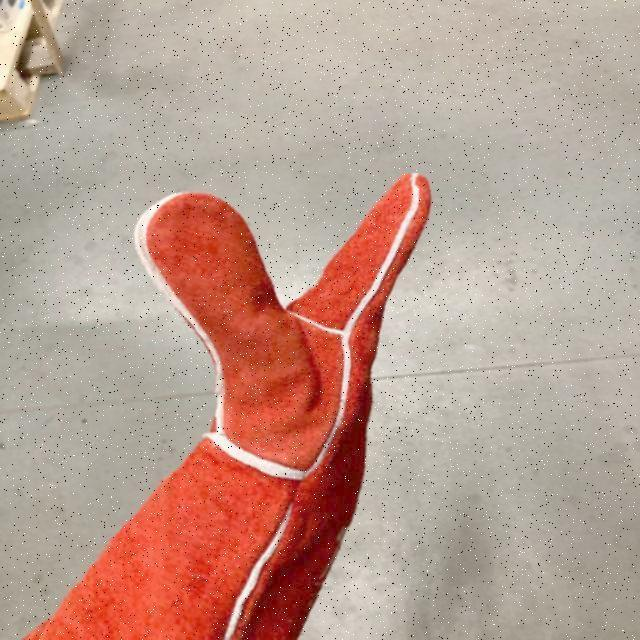Gloves: (21, 170, 433, 638)
